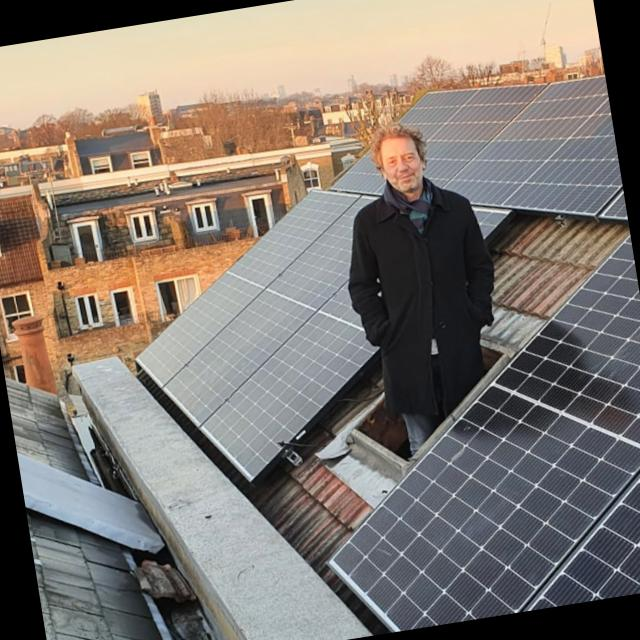no faulty: (331, 236, 640, 630), (140, 190, 373, 473), (412, 79, 628, 223)
